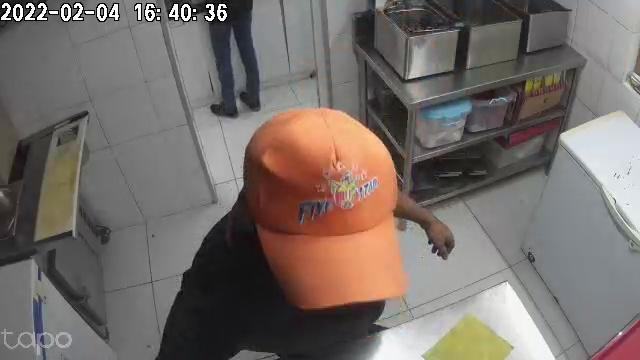no_gloves: (422, 214, 457, 261)
